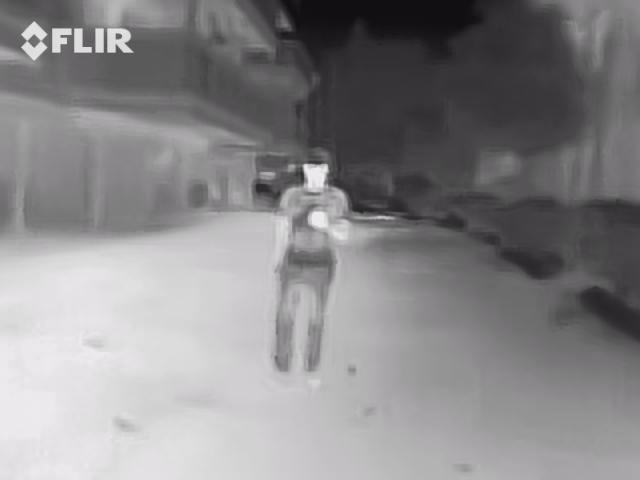head: (301, 150, 329, 190)
